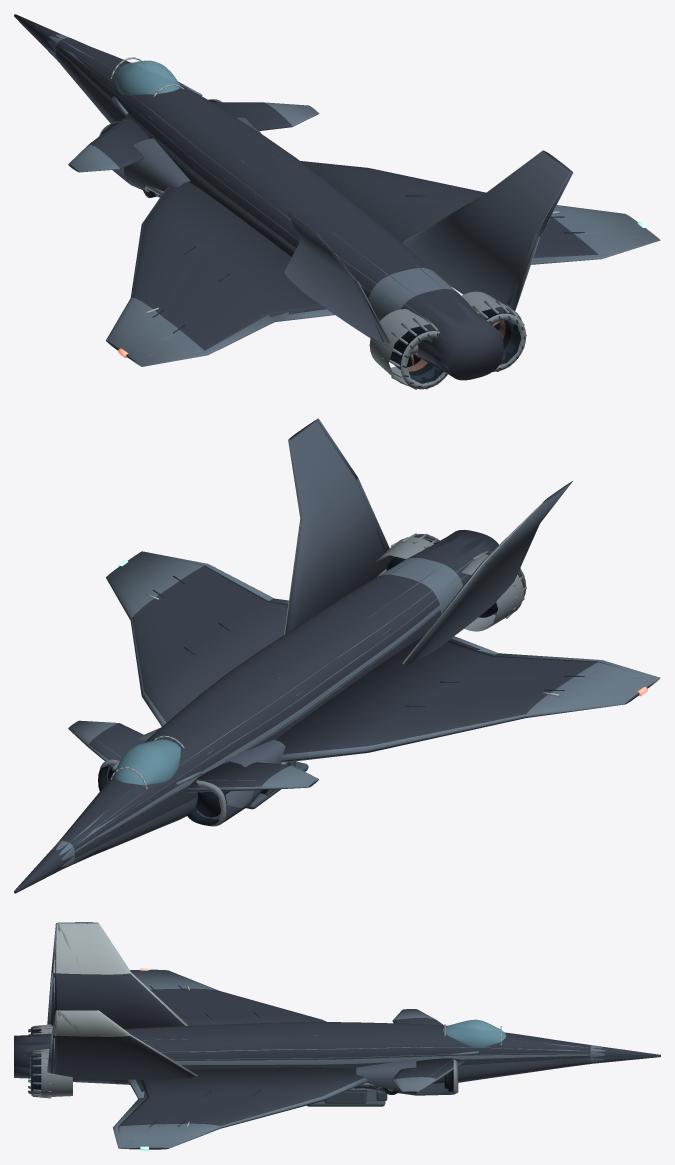
3 renders of one model, top to bottom at view 1: azimuth 30°, elevation 25°; view 2: azimuth 150°, elevation 25°; view 3: azimuth 270°, elevation 25°, orthographic. The views are drawn at different scales.
Visible parts, largest first — view 1: Airframe shell mesh, Airframe shell.001 mesh, Airframe shell.002 mesh, Canard, Canard.001, Canopy glass, Canopy glass.001, Hinged Aileron, Hinged Aileron.001; view 2: Airframe shell mesh, Airframe shell.001 mesh, Airframe shell.002 mesh, Canard, Canopy glass, Canopy glass.001, Canard.001; view 3: Airframe shell mesh, Airframe shell.001 mesh, Airframe shell.002 mesh, Canard.001, Canopy glass, Canopy glass.001, Cockpit shell mesh, Canard.
Boxes of the visible parts, x1=… form: Airframe shell mesh: x1=14, y1=15, x2=647, y2=389; Airframe shell.001 mesh: x1=14, y1=14, x2=659, y2=389; Airframe shell.002 mesh: x1=14, y1=14, x2=655, y2=389; Canard: x1=68, y1=118, x2=150, y2=172; Canard.001: x1=212, y1=102, x2=319, y2=130; Canopy glass: x1=114, y1=60, x2=180, y2=95; Canopy glass.001: x1=115, y1=60, x2=179, y2=94; Hinged Aileron: x1=133, y1=315, x2=274, y2=366; Hinged Aileron.001: x1=531, y1=239, x2=660, y2=264; Airframe shell mesh: x1=14, y1=431, x2=651, y2=893; Airframe shell.001 mesh: x1=14, y1=418, x2=659, y2=893; Airframe shell.002 mesh: x1=15, y1=420, x2=655, y2=892; Canard: x1=187, y1=761, x2=318, y2=792; Canopy glass: x1=114, y1=739, x2=180, y2=785; Canopy glass.001: x1=114, y1=739, x2=180, y2=784; Canard.001: x1=68, y1=720, x2=145, y2=770; Airframe shell mesh: x1=14, y1=922, x2=660, y2=1150; Airframe shell.001 mesh: x1=14, y1=922, x2=604, y2=1149; Airframe shell.002 mesh: x1=14, y1=923, x2=660, y2=1148; Canard.001: x1=392, y1=1058, x2=464, y2=1092; Canopy glass: x1=443, y1=1019, x2=505, y2=1047; Canopy glass.001: x1=443, y1=1020, x2=504, y2=1047; Cockpit shell mesh: x1=307, y1=1088, x2=387, y2=1106; Canard: x1=392, y1=1009, x2=443, y2=1025.
Bounding box in the file's own units: 13.53 × 4.45 × 20.6.
